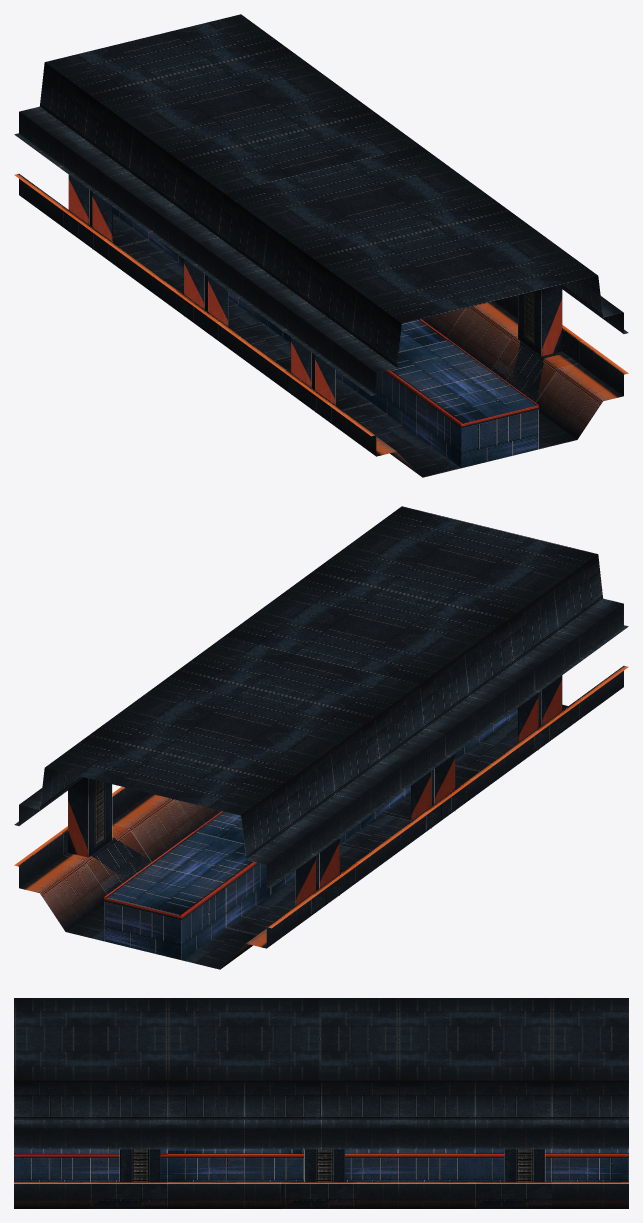
The picture shows the model from 3 angles, top to bottom: view 1: azimuth 30°, elevation 25°; view 2: azimuth 150°, elevation 25°; view 3: azimuth 270°, elevation 25°; orthographic projection. The views are drawn at different scales.
Visible parts, largest first — view 1: bg_a_wall01, bg_a_wall00, bg_a_lane, bg_a_wall03; view 2: bg_a_wall01, bg_a_wall00, bg_a_lane, bg_a_wall03; view 3: bg_a_wall01, bg_a_wall00, bg_a_lane, bg_a_wall03.
Part boxes in pixels (left/top/right/bottom): bg_a_wall01: left=14, top=14, right=628, bottom=395; bg_a_wall00: left=14, top=173, right=628, bottom=477; bg_a_lane: left=113, top=207, right=538, bottom=468; bg_a_wall03: left=68, top=175, right=562, bottom=412; bg_a_wall01: left=14, top=506, right=628, bottom=887; bg_a_wall00: left=14, top=665, right=628, bottom=969; bg_a_lane: left=104, top=708, right=517, bottom=960; bg_a_wall03: left=68, top=675, right=562, bottom=905; bg_a_wall01: left=14, top=998, right=628, bottom=1149; bg_a_wall00: left=14, top=1182, right=628, bottom=1208; bg_a_lane: left=14, top=1149, right=628, bottom=1181; bg_a_wall03: left=119, top=1149, right=545, bottom=1181.
Size of the model in its own units: 5000 by 2950 by 12000.
Materials: 4 (4 with a texture image).
